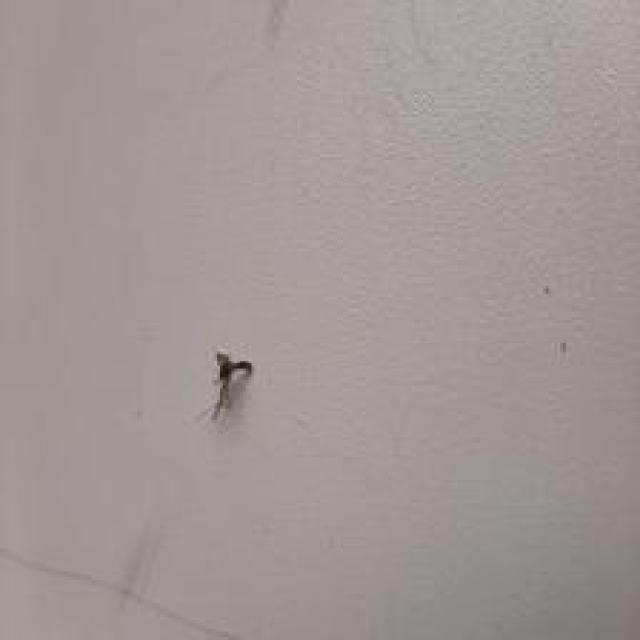Culex: (207, 350, 253, 421)
